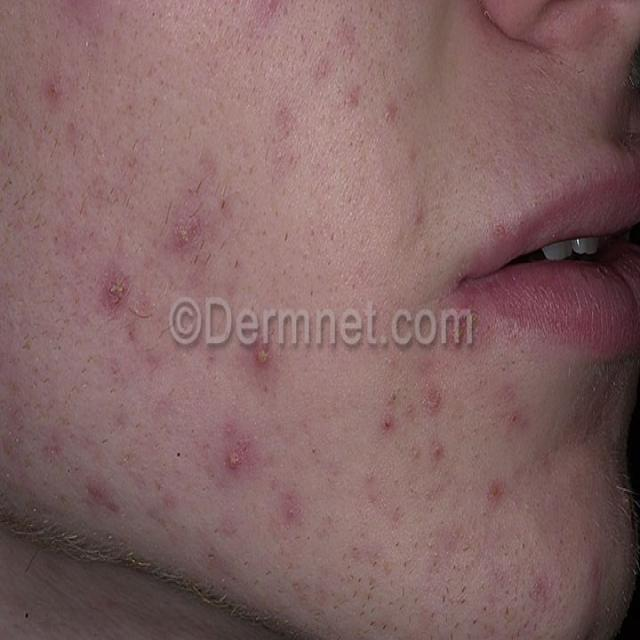acne: (478, 372, 610, 640), (297, 20, 438, 174), (369, 336, 447, 493), (44, 427, 132, 532), (153, 186, 227, 292), (229, 316, 286, 388), (211, 408, 258, 486), (262, 479, 320, 533), (82, 268, 137, 324), (34, 59, 78, 121)
